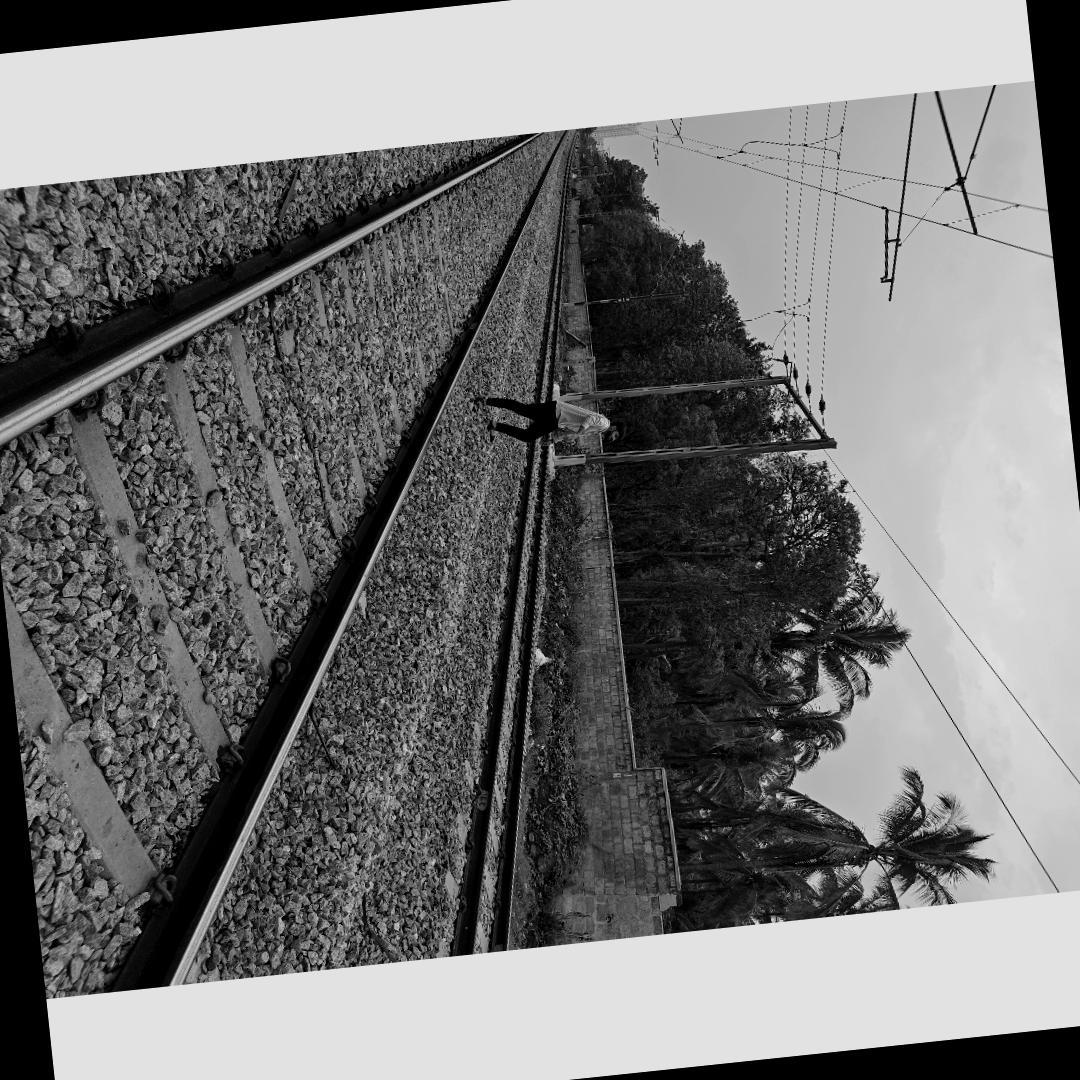standing: (470, 381, 628, 460)
track: (0, 129, 578, 999)
